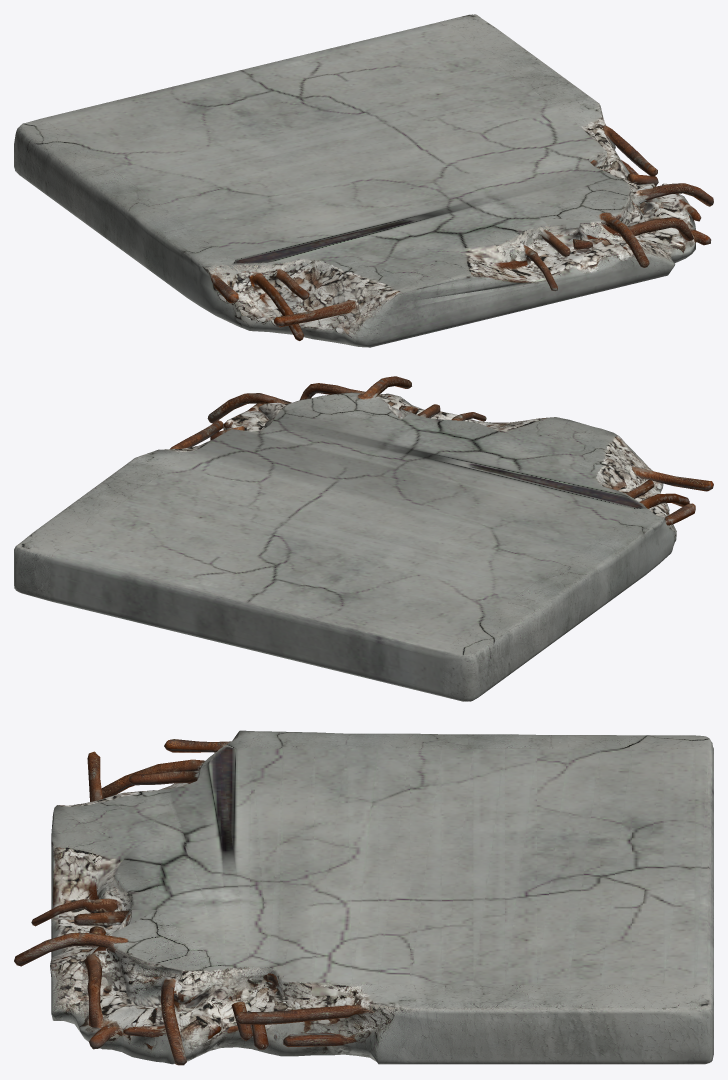
File: Meshy_AI_Cracked_Concrete_Slab_0517152933_texture.fbx
The picture shows the model from 3 angles, top to bottom: view 1: azimuth 30°, elevation 25°; view 2: azimuth 150°, elevation 25°; view 3: azimuth 270°, elevation 25°; orthographic projection. The views are drawn at different scales.
Parts seen in each view (by area): view 1: Mesh_0; view 2: Mesh_0; view 3: Mesh_0.
Boxes of the visible parts, x1,y1,x2,y2 form: Mesh_0: (14,14,713,347); Mesh_0: (14,376,713,701); Mesh_0: (14,730,713,1065).
Size of the model in its own units: 187 by 19.57 by 190.
1 material, 1 textured.
